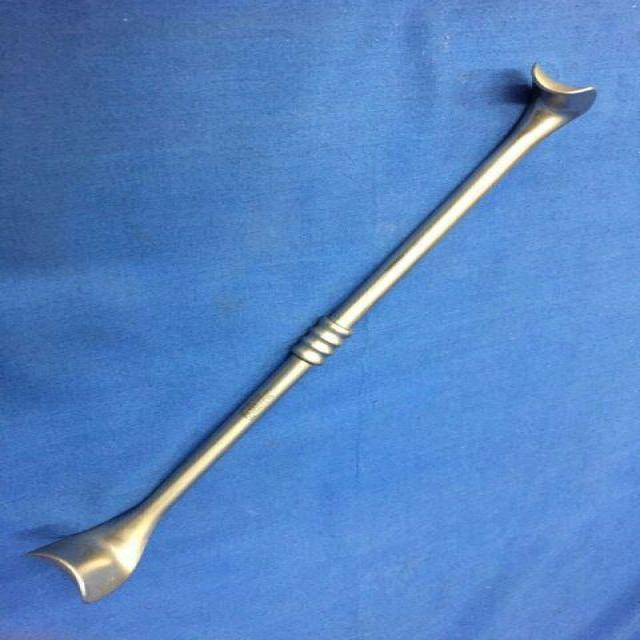Richardson: (26, 58, 606, 610)
